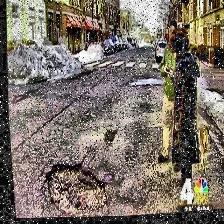pothole: (39, 157, 107, 221)
